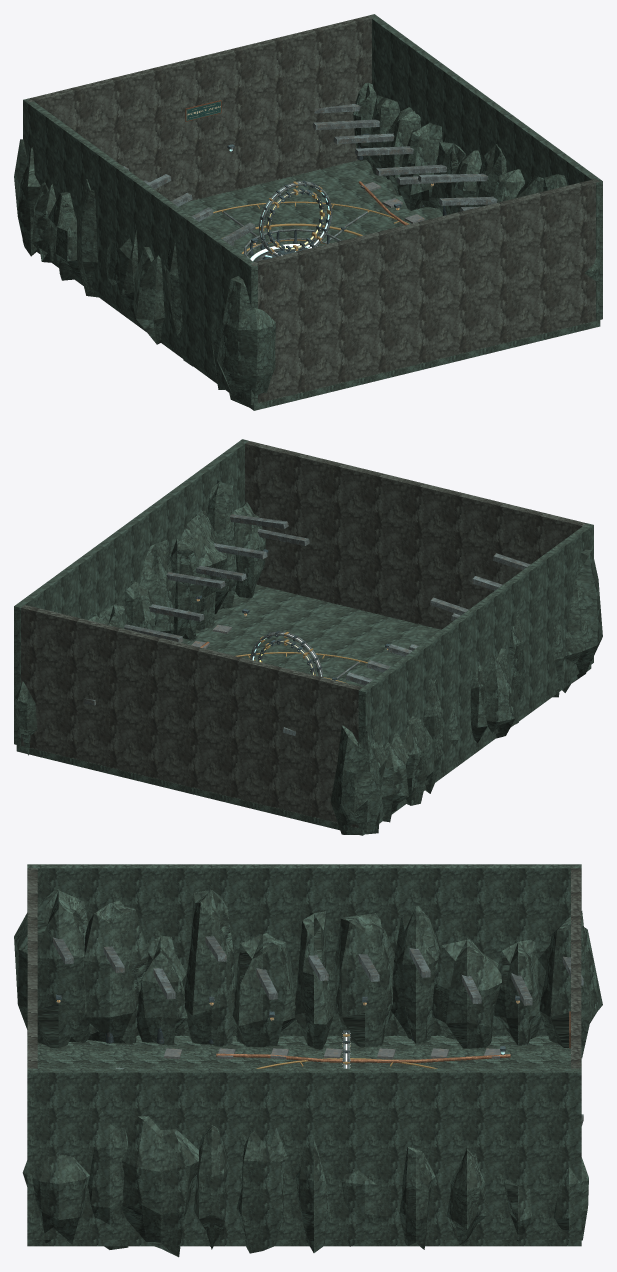
The model's file is chapter7.glb.
3 views of the same model, one above another, from view 1: azimuth 30°, elevation 25°; view 2: azimuth 150°, elevation 25°; view 3: azimuth 270°, elevation 25° (orthographic). The views are drawn at different scales.
Visible parts, largest first — view 1: Basalt, Kabel und Laufstege, FieldOuter, FieldInner; view 2: Basalt, Kabel und Laufstege, FieldOuter; view 3: Basalt, Kabel und Laufstege.
Boxes of the visible parts, bbox=[...] form: Basalt, Kabel und Laufstege: bbox=[14, 14, 602, 410]; FieldOuter: bbox=[259, 180, 332, 256]; FieldInner: bbox=[266, 188, 324, 251]; Basalt, Kabel und Laufstege: bbox=[14, 439, 602, 835]; FieldOuter: bbox=[250, 631, 323, 677]; Basalt, Kabel und Laufstege: bbox=[14, 864, 602, 1257].
Size of the model in its own units: 23.68 by 8.82 by 25.51.
Materials: 15 (10 with a texture image).
